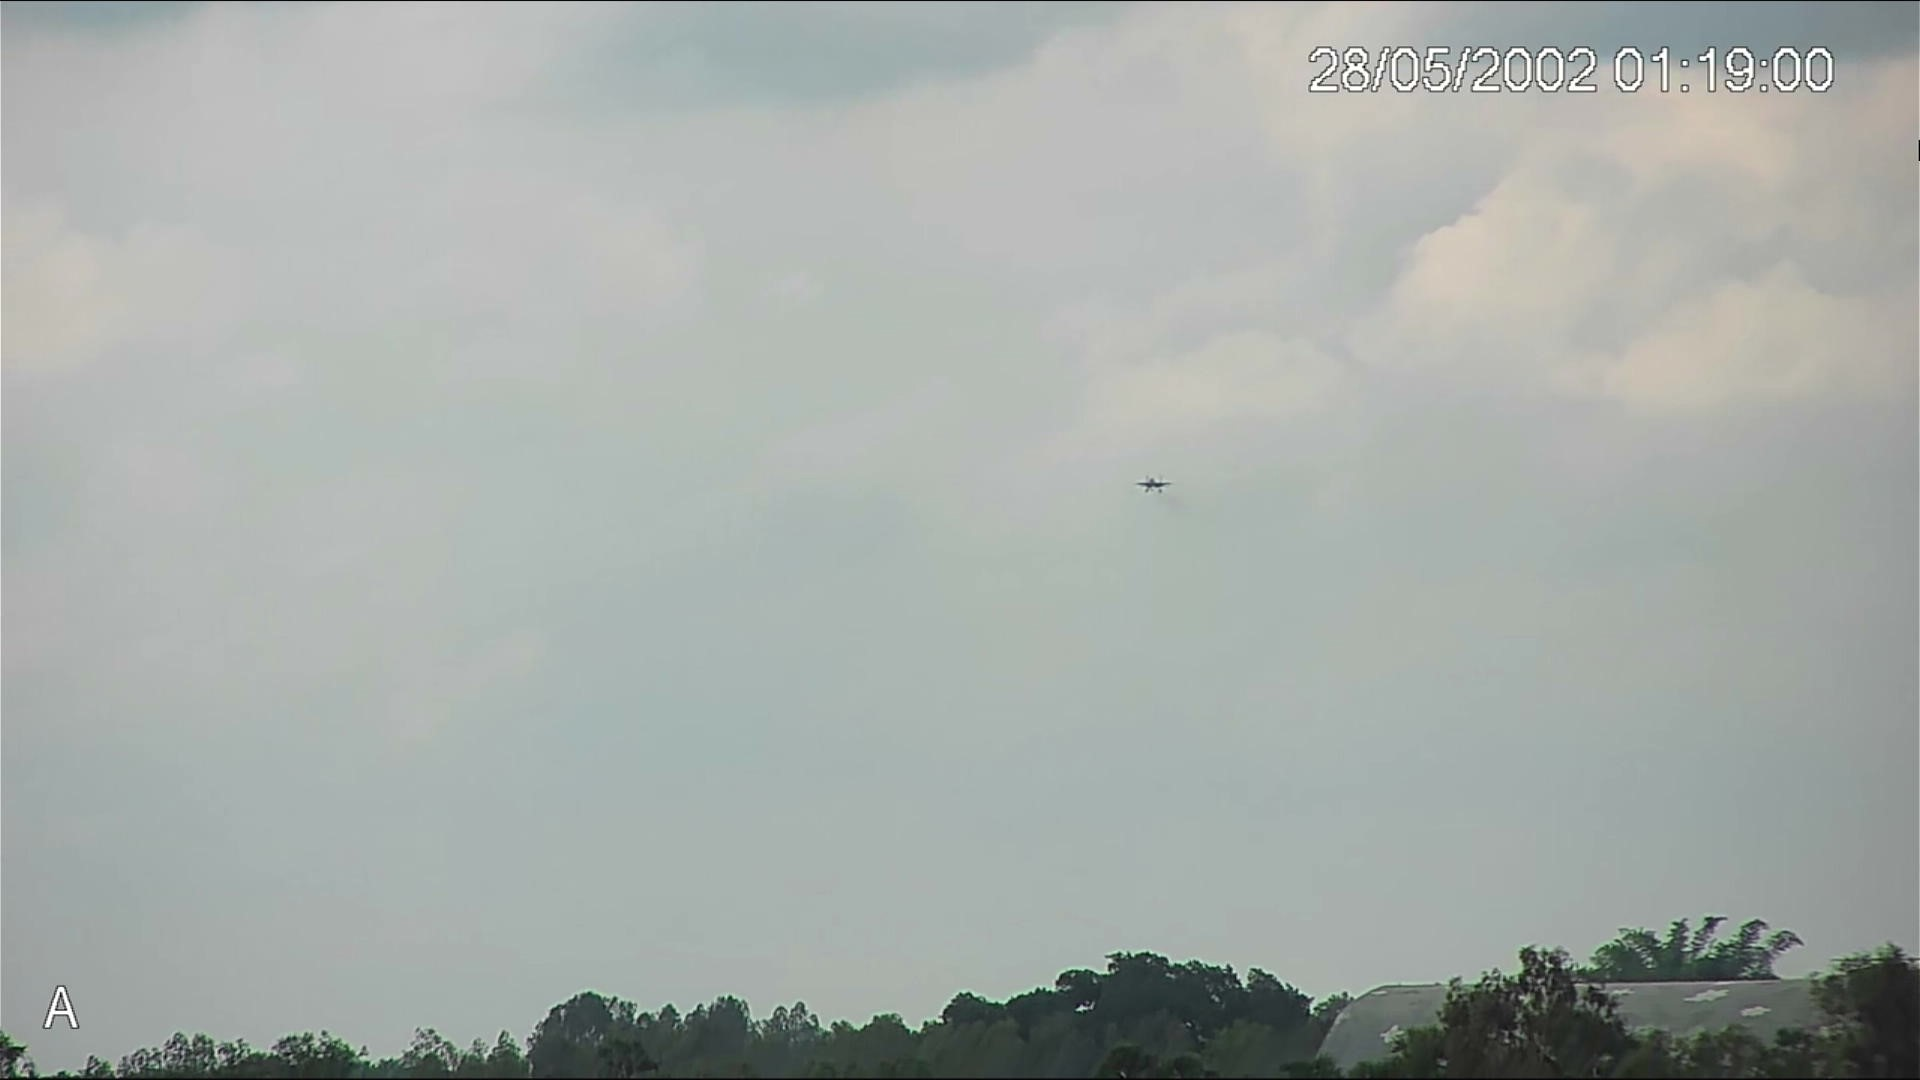SU_30: (1137, 475, 1170, 495)
